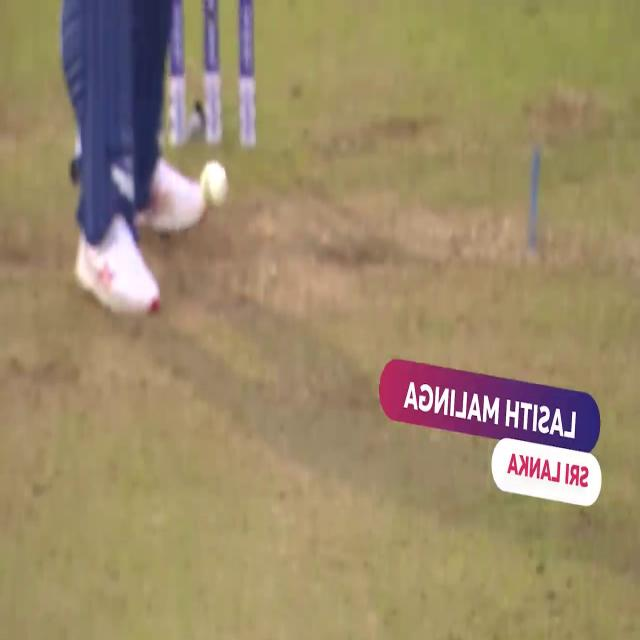ball: (199, 156, 231, 212)
